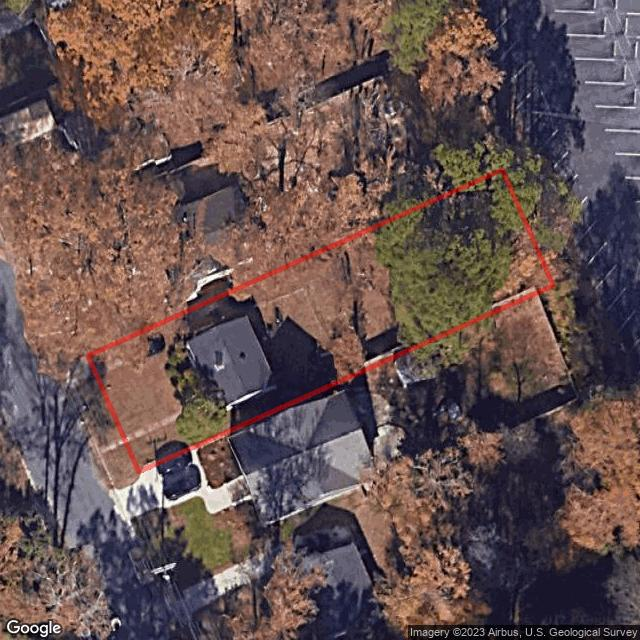Driveway: (103, 358, 183, 435)
Extra Driveway: (79, 388, 124, 448)
House: (186, 314, 279, 411)
